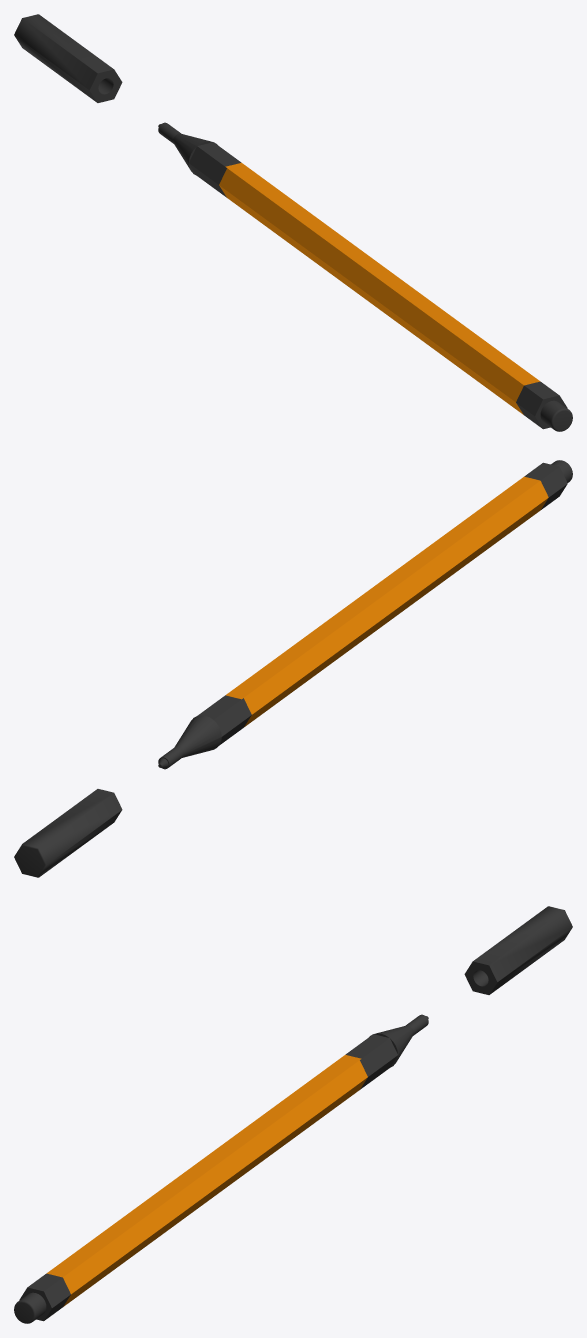
The picture shows the model from 3 angles, top to bottom: view 1: azimuth 30°, elevation 25°; view 2: azimuth 150°, elevation 25°; view 3: azimuth 330°, elevation 25°; orthographic projection.
Visible parts, largest first — view 1: orange_barrel, cap_shell, point_shoulder, rear_sleeve; view 2: orange_barrel, cap_shell, point_shoulder, rear_sleeve; view 3: orange_barrel, cap_shell, point_shoulder, rear_sleeve.
Boxes of the visible parts, x1=… form: orange_barrel: x1=219, y1=162, x2=540, y2=414; cap_shell: x1=14, y1=14, x2=122, y2=102; point_shoulder: x1=158, y1=122, x2=241, y2=197; rear_sleeve: x1=516, y1=381, x2=572, y2=431; orange_barrel: x1=226, y1=476, x2=548, y2=727; cap_shell: x1=14, y1=789, x2=122, y2=877; point_shoulder: x1=158, y1=695, x2=251, y2=769; rear_sleeve: x1=524, y1=460, x2=572, y2=509; orange_barrel: x1=46, y1=1054, x2=367, y2=1306; cap_shell: x1=464, y1=906, x2=572, y2=994; point_shoulder: x1=345, y1=1014, x2=428, y2=1089; rear_sleeve: x1=14, y1=1273, x2=70, y2=1323.
Bounding box in the file's own units: 0.005 × 0.005 × 0.14.
